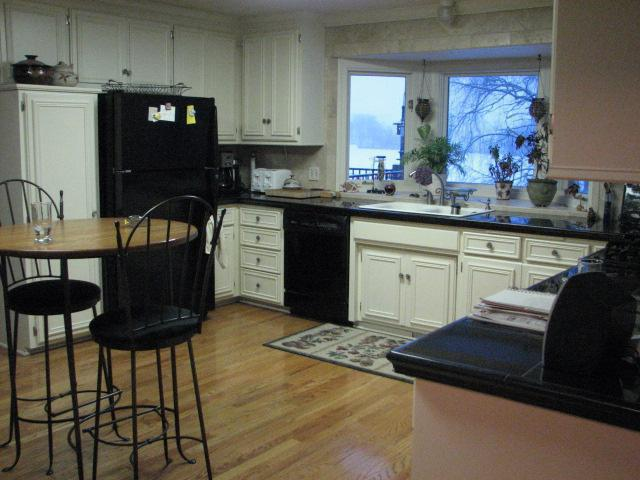Lavaplatos: (359, 165, 498, 226)
